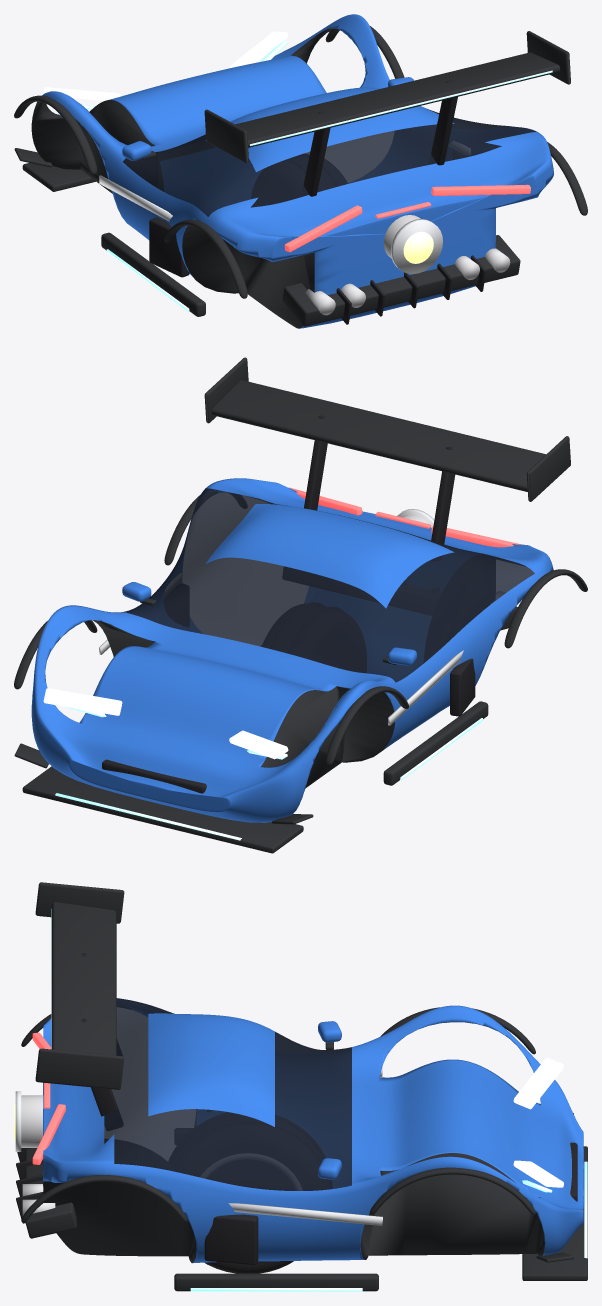
The model's file is striker.glb.
The picture shows the model from 3 angles, top to bottom: view 1: azimuth 30°, elevation 25°; view 2: azimuth 150°, elevation 25°; view 3: azimuth 270°, elevation 25°; orthographic projection. The views are drawn at different scales.
Parts seen in each view (by area): view 1: Body; view 2: Body; view 3: Body, Wheel.
Boxes of the visible parts, x1,y1,x2,y2 form: Body: [14, 14, 587, 328]; Body: [14, 357, 587, 853]; Body: [14, 882, 587, 1291]; Wheel: [170, 1114, 331, 1273].
Size of the model in its own units: 1.04 by 0.8171 by 1.4.
